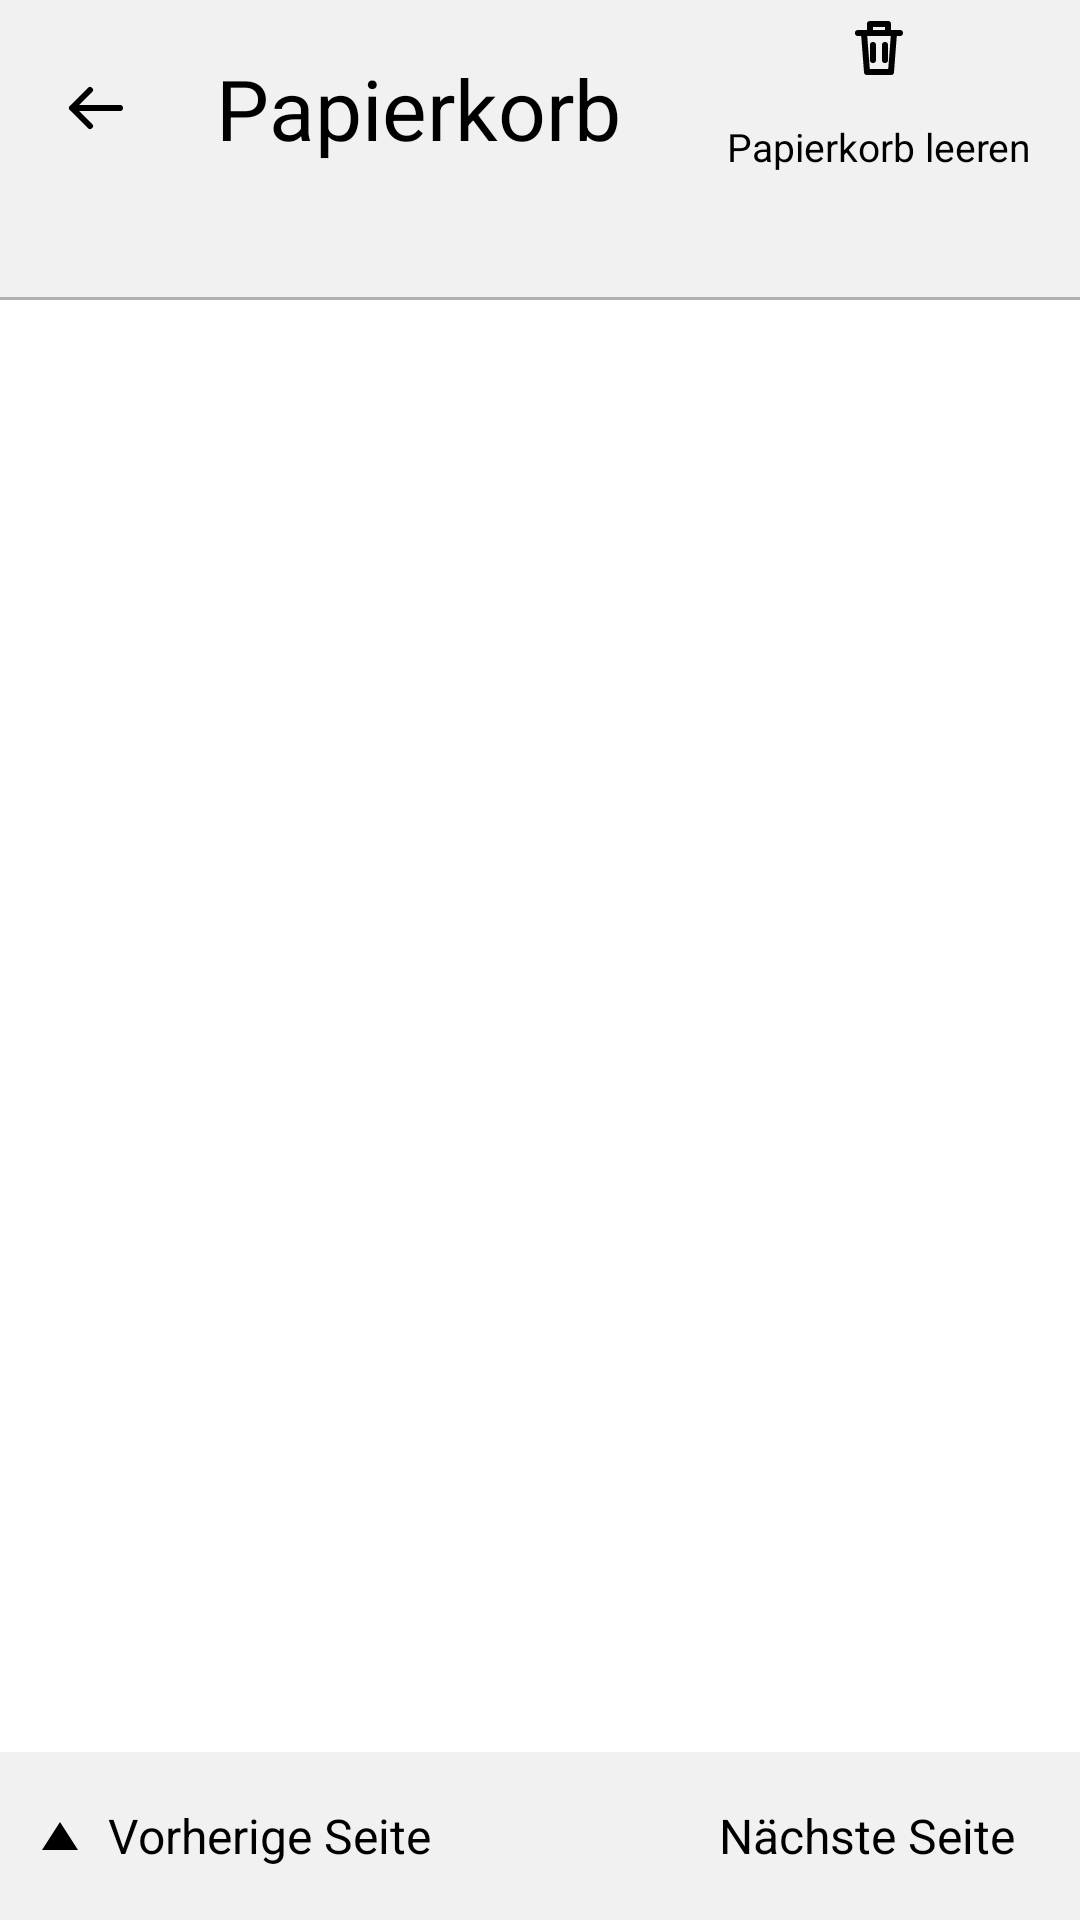

Where to tap for icons on this 1080*1920 app screen, as point (x, y):
arrow up: point (60, 1836)
Zurück: point (96, 108)
